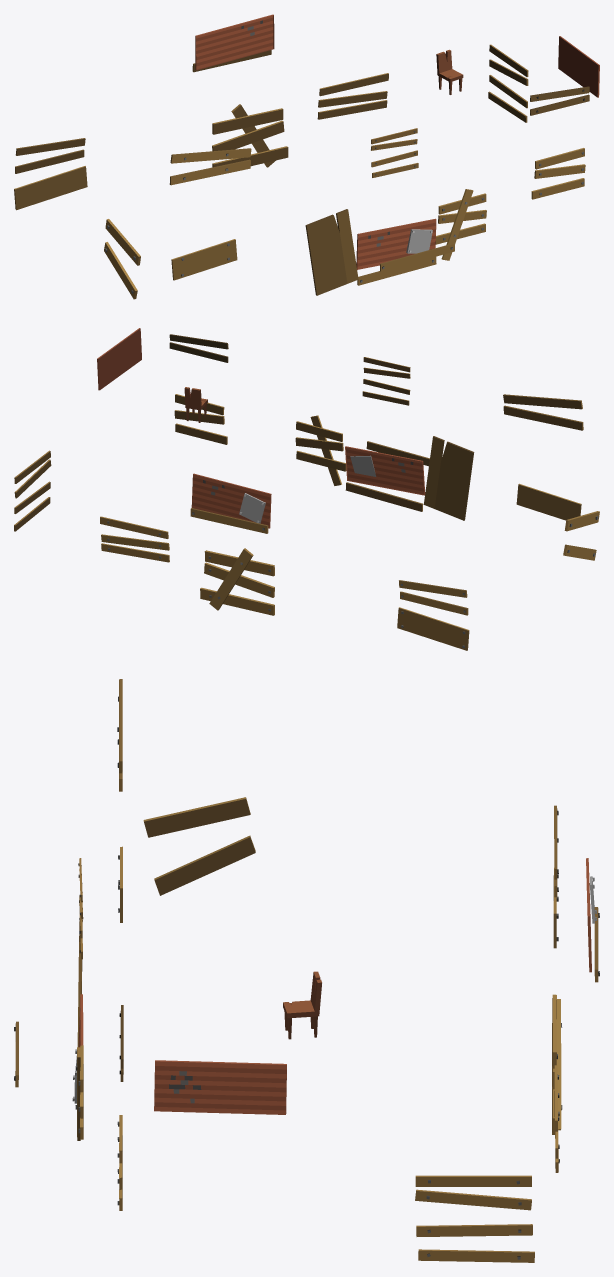
Rendered from SA_Bld_TownHall_Extras_01.gltf.
3 views of the same model, one above another, from view 1: azimuth 30°, elevation 25°; view 2: azimuth 150°, elevation 25°; view 3: azimuth 270°, elevation 25° (orthographic). The views are drawn at different scales.
Parts seen in each view (by area): view 1: SA_Bld_TownHall_Extras_01; view 2: SA_Bld_TownHall_Extras_01; view 3: SA_Bld_TownHall_Extras_01.
Boxes of the visible parts, x1,y1,x2,y2 form: SA_Bld_TownHall_Extras_01: [14, 14, 599, 299]; SA_Bld_TownHall_Extras_01: [14, 328, 599, 650]; SA_Bld_TownHall_Extras_01: [14, 679, 599, 1262].
Size of the model in its own units: 27.95 by 9.48 by 18.62.
1 material, 1 textured.
